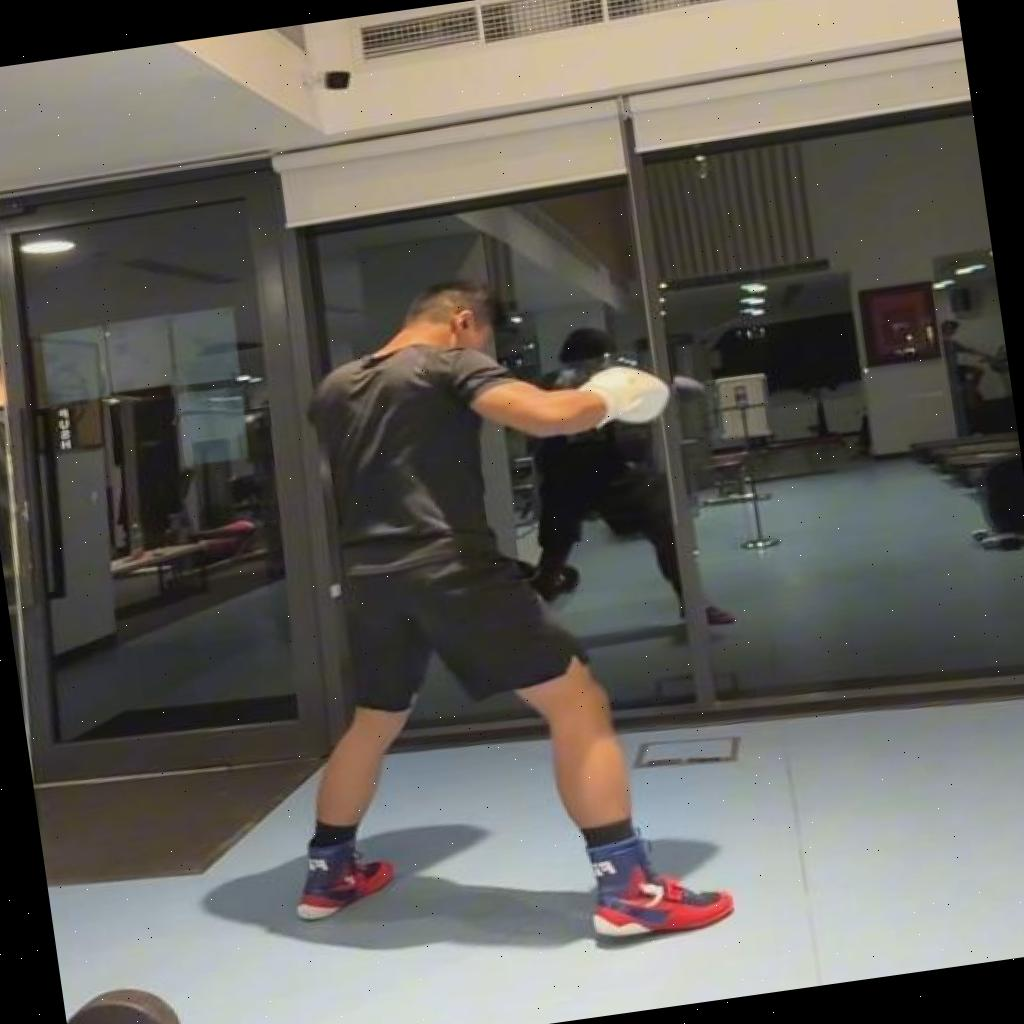hook: (210, 248, 753, 992)
